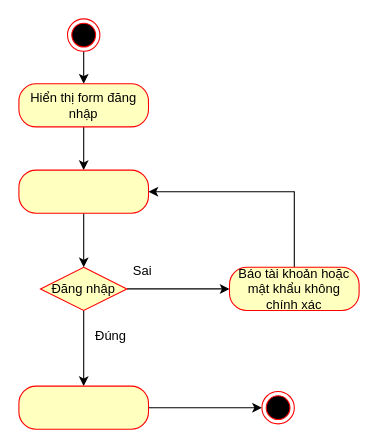
Some shapes in this 378 by 448 pixel diagram are drawn without their labels. Here are the shapes that lost their labels. From the top down, the centre of each, then its label:
At [83,191]: "Nhập tài khoản mật khẩu".
At [83,407]: "Hiện lên Tran chủ".
